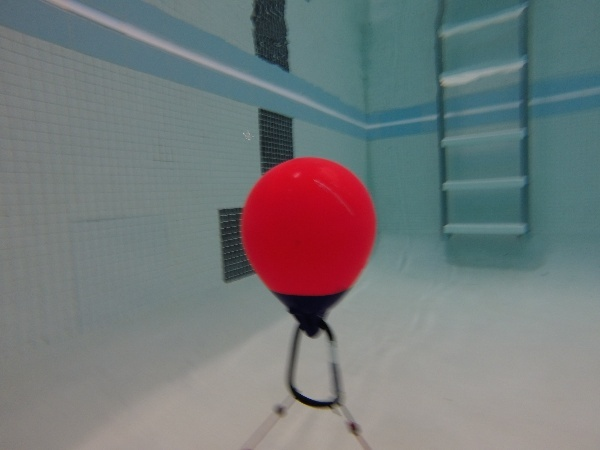buoy_red: (240, 155, 374, 338)
